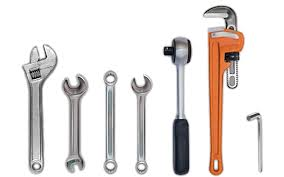Wrench: (203, 5, 243, 174), (22, 44, 57, 173), (62, 73, 87, 172), (131, 75, 152, 174), (103, 70, 117, 173)
